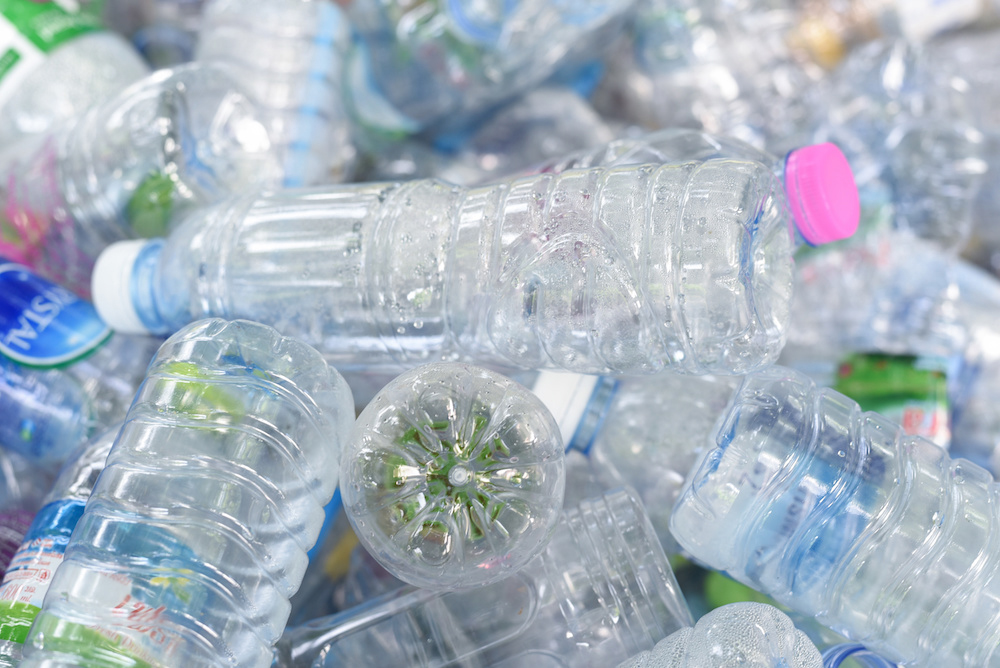plastic_bottle: (67, 89, 955, 415), (18, 298, 466, 668), (602, 237, 1000, 653), (402, 56, 902, 357), (295, 281, 715, 632), (232, 482, 738, 668), (542, 543, 899, 668)
